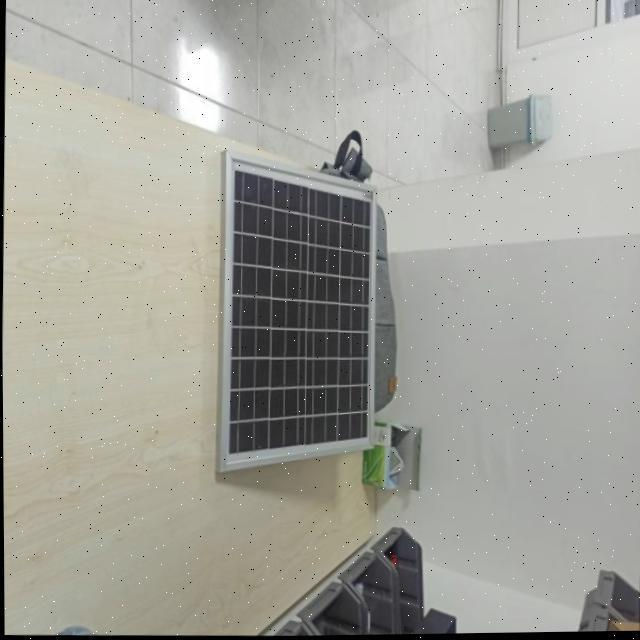Normal Solar Panel: (218, 150, 378, 473)
